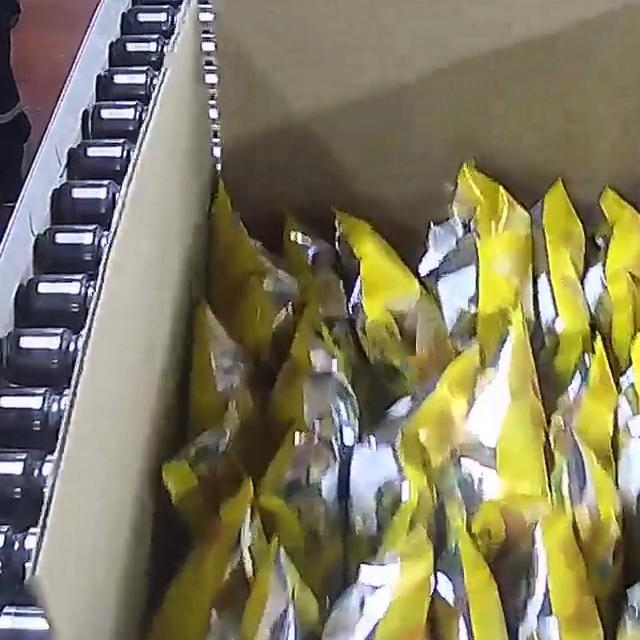salted: (129, 153, 640, 640)
